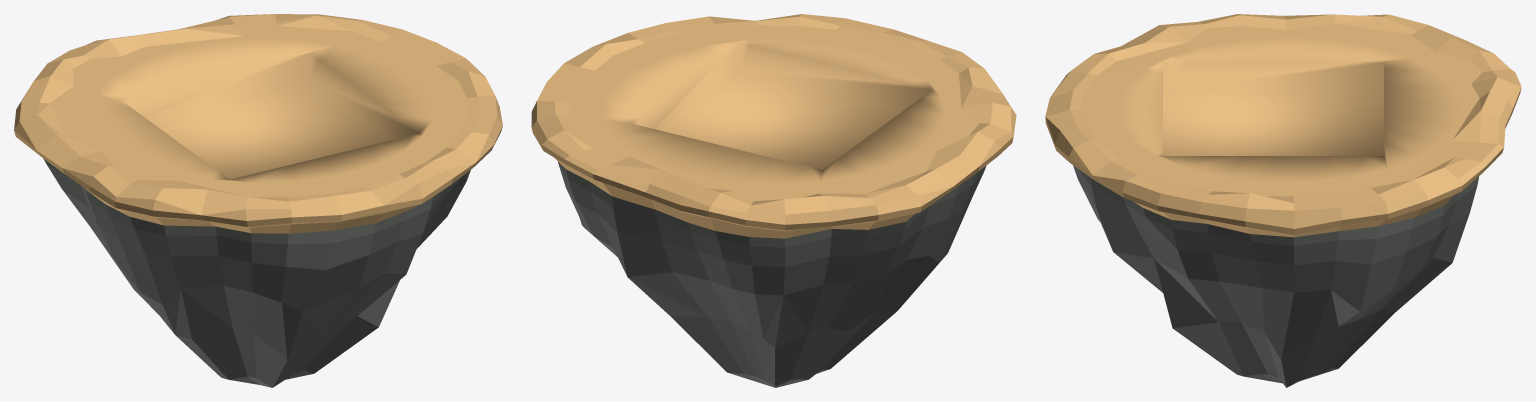
Rendered from Island7X7.fbx.
3 views of the same model, side by side, from view 1: azimuth 30°, elevation 25°; view 2: azimuth 150°, elevation 25°; view 3: azimuth 270°, elevation 25° (orthographic).
Parts seen in each view (by area): view 1: Island; view 2: Island; view 3: Island.
Boxes of the visible parts, left/top/right/bottom form: Island: left=14, top=14, right=502, bottom=387; Island: left=531, top=14, right=1016, bottom=387; Island: left=1045, top=14, right=1521, bottom=387.
Bounding box in the file's own units: 3052 × 1986 × 3017.
